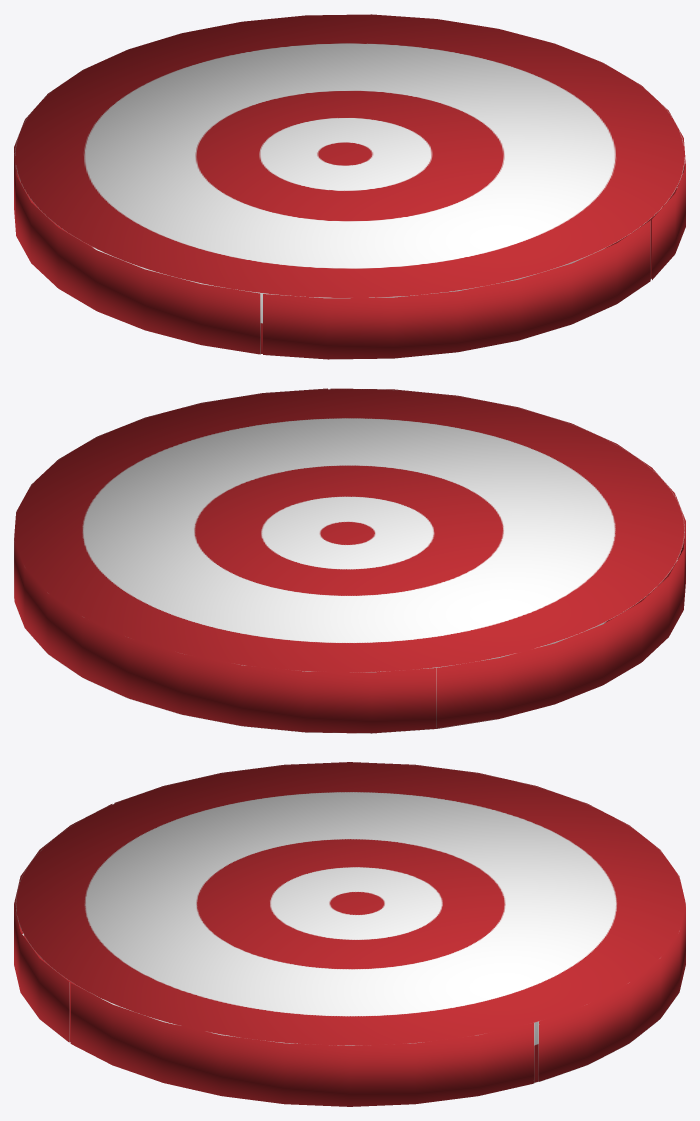
The model's file is Target.fbx.
3 renders of one model, top to bottom at view 1: azimuth 30°, elevation 25°; view 2: azimuth 150°, elevation 25°; view 3: azimuth 270°, elevation 25°, orthographic.
Parts seen in each view (by area): view 1: Circle; view 2: Circle; view 3: Circle.
Part boxes in pixels (left/top/right/bottom): Circle: left=14, top=14, right=685, bottom=359; Circle: left=14, top=388, right=685, bottom=733; Circle: left=14, top=762, right=685, bottom=1106.
Bounding box in the file's own units: 200 × 20 × 200.
